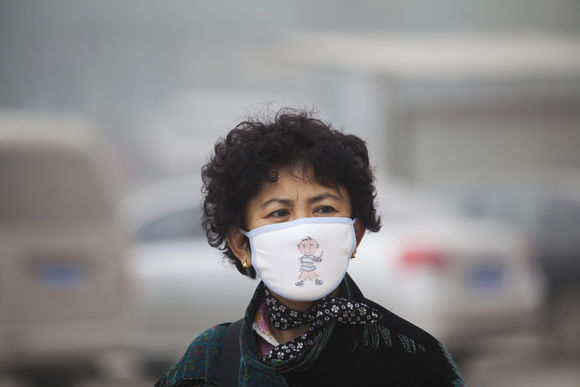face_mask: (248, 163, 355, 303)
